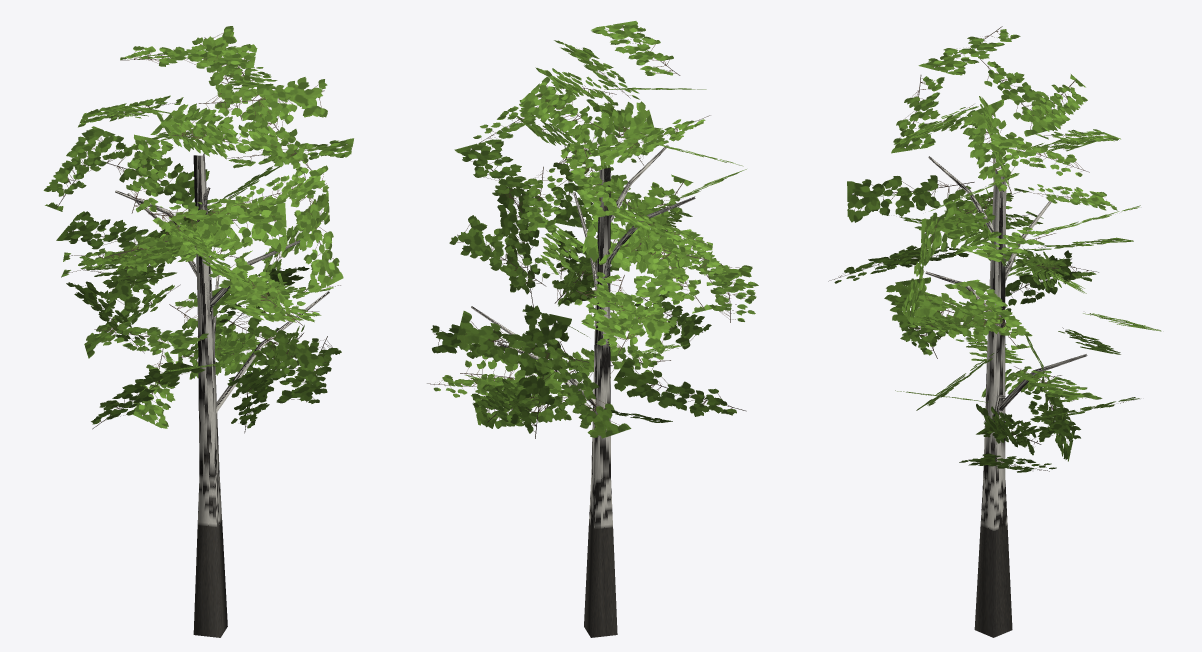
The model's file is mid.glb.
3 renders of one model, left to right at view 1: azimuth 30°, elevation 25°; view 2: azimuth 150°, elevation 25°; view 3: azimuth 270°, elevation 25°, orthographic. The views are drawn at different scales.
Parts seen in each view (by area): view 1: birch_05; view 2: birch_05; view 3: birch_05.
Boxes of the visible parts, bbox=[...] form: birch_05: bbox=[43, 26, 353, 637]; birch_05: bbox=[427, 21, 758, 637]; birch_05: bbox=[828, 26, 1161, 637].
Bounding box in the file's own units: 10.56 × 17.35 × 10.39.
2 materials, 2 textured.
